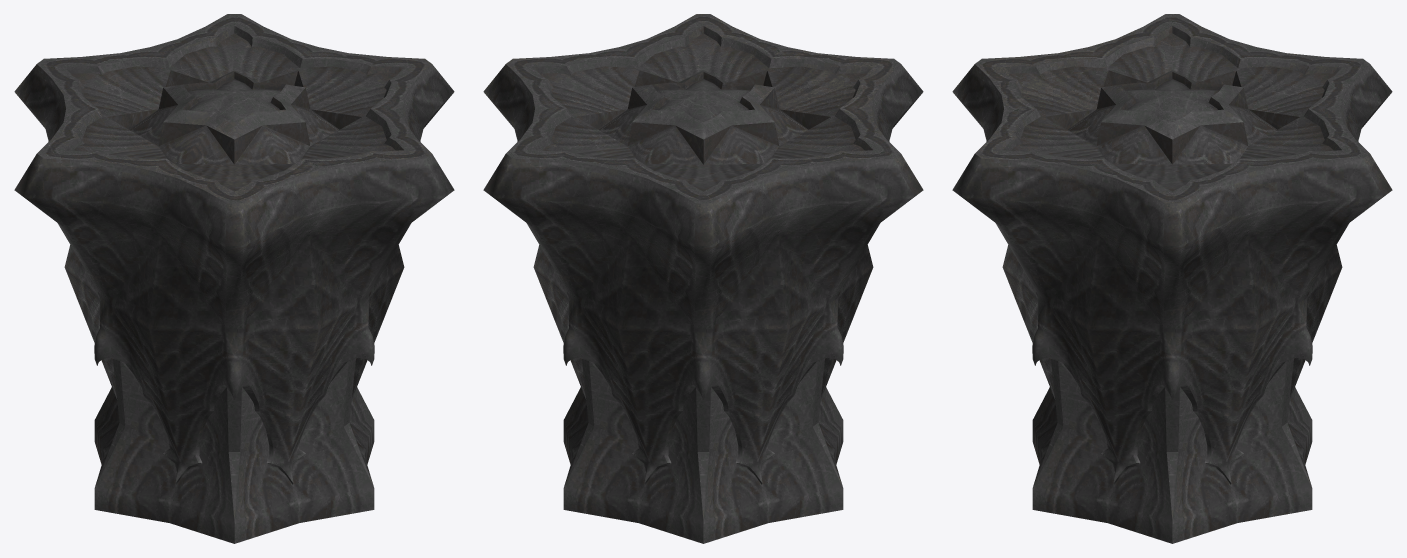
The model's file is bg_rad_kamen_pillar07d_sm.obj.
The picture shows the model from 3 angles, left to right: view 1: azimuth 30°, elevation 25°; view 2: azimuth 150°, elevation 25°; view 3: azimuth 270°, elevation 25°; orthographic projection.
Parts seen in each view (by area): view 1: bg_rad_kamen_pillar07d_sm_0; view 2: bg_rad_kamen_pillar07d_sm_0; view 3: bg_rad_kamen_pillar07d_sm_0.
Boxes of the visible parts, x1,y1,x2,y2 form: bg_rad_kamen_pillar07d_sm_0: (14,14,454,543); bg_rad_kamen_pillar07d_sm_0: (483,14,923,543); bg_rad_kamen_pillar07d_sm_0: (952,14,1392,543).
Bounding box in the file's own units: 1.62 × 1.38 × 1.43.
1 material, 1 textured.
